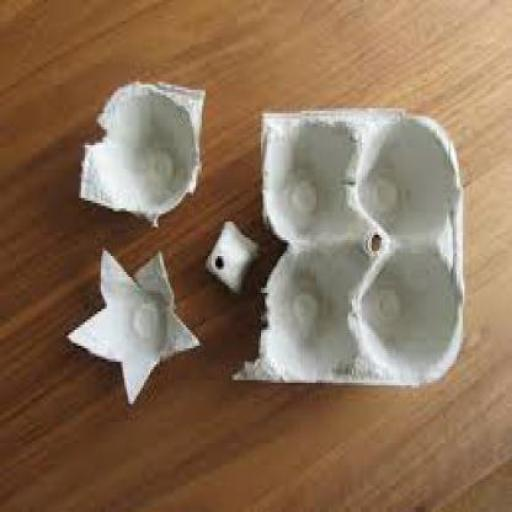cardboard: (230, 105, 462, 386), (61, 242, 200, 402), (77, 79, 206, 227), (204, 219, 259, 295)
